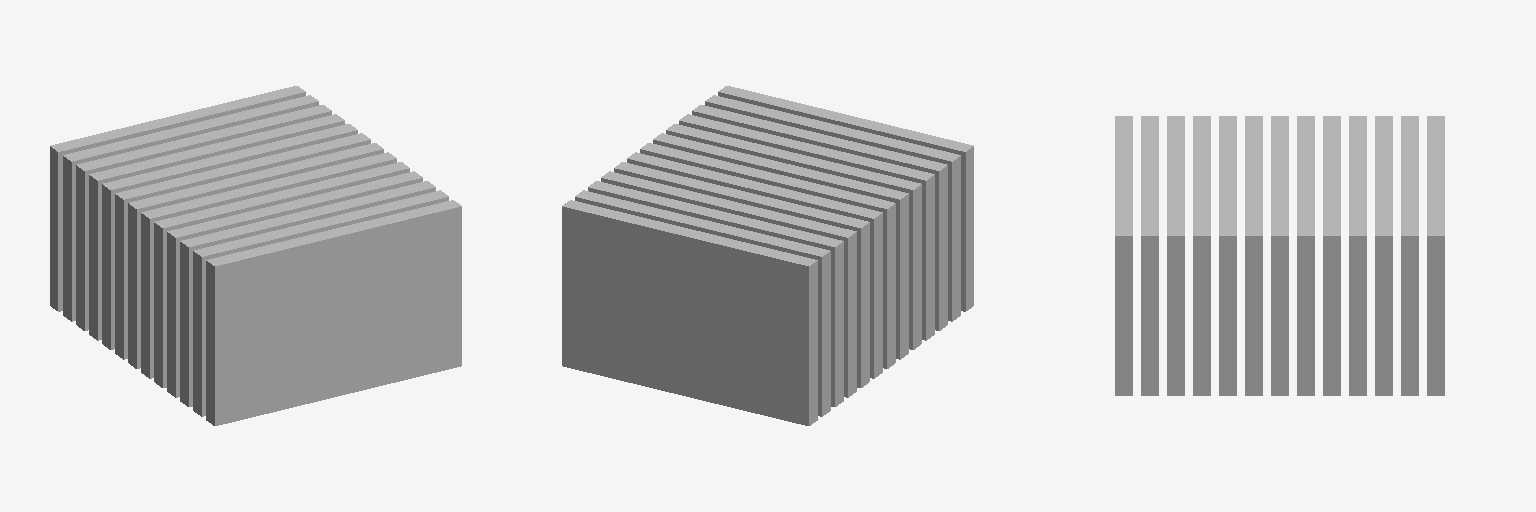
The model's file is CCR_L.obj.
3 views of the same model, side by side, from view 1: azimuth 30°, elevation 25°; view 2: azimuth 150°, elevation 25°; view 3: azimuth 270°, elevation 25° (orthographic).
Parts seen in each view (by area): view 1: Box069, Box058, Box064, Box059, Box060, Box062, Box066, Box067, Box068, Box065, Box061, Box057 (+1 smaller); view 2: Box057, Box068, Box060, Box059, Box062, Box066, Box067, Box058, Box061, Box064, Box063, Box065 (+1 smaller); view 3: Box057, Box058, Box059, Box060, Box061, Box062, Box063, Box064, Box065, Box066, Box067, Box068 (+1 smaller).
Boxes of the visible parts, <box> form: Box069: <box>206,200,461,425</box>; Box058: <box>63,95,318,321</box>; Box064: <box>141,152,396,378</box>; Box059: <box>76,105,331,330</box>; Box060: <box>89,114,344,340</box>; Box062: <box>115,133,370,359</box>; Box066: <box>167,171,422,397</box>; Box067: <box>180,181,435,406</box>; Box068: <box>193,190,448,416</box>; Box065: <box>154,162,409,387</box>; Box061: <box>102,124,357,349</box>; Box057: <box>50,86,305,311</box>; Box057: <box>562,200,817,425</box>; Box068: <box>705,95,960,321</box>; Box060: <box>601,171,856,397</box>; Box059: <box>588,181,843,406</box>; Box062: <box>627,152,882,378</box>; Box066: <box>679,114,934,340</box>; Box067: <box>692,105,947,330</box>; Box058: <box>575,190,830,416</box>; Box061: <box>614,162,869,387</box>; Box064: <box>653,133,908,359</box>; Box063: <box>640,143,895,368</box>; Box065: <box>666,124,921,349</box>; Box057: <box>1427,116,1444,395</box>; Box058: <box>1401,116,1418,395</box>; Box059: <box>1375,116,1392,395</box>; Box060: <box>1349,116,1366,395</box>; Box061: <box>1323,116,1340,395</box>; Box062: <box>1297,116,1314,395</box>; Box063: <box>1271,116,1288,395</box>; Box064: <box>1245,116,1262,395</box>; Box065: <box>1219,116,1236,395</box>; Box066: <box>1193,116,1210,395</box>; Box067: <box>1167,116,1184,395</box>; Box068: <box>1141,116,1158,395</box>.
Bounding box in the file's own units: 7.19 × 4.44 × 8.31.